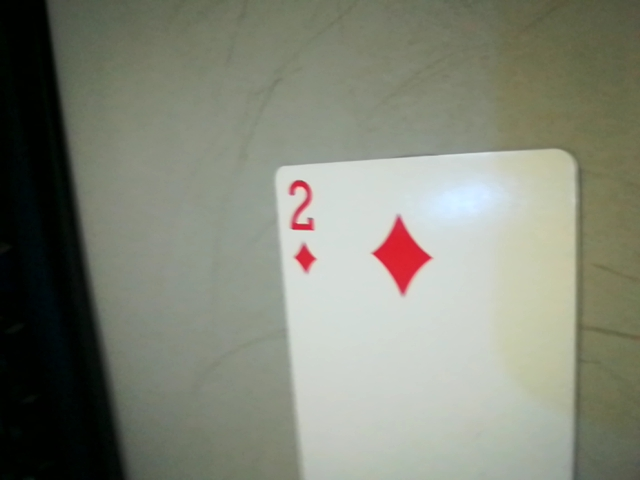fk 2: (271, 171, 331, 281)
